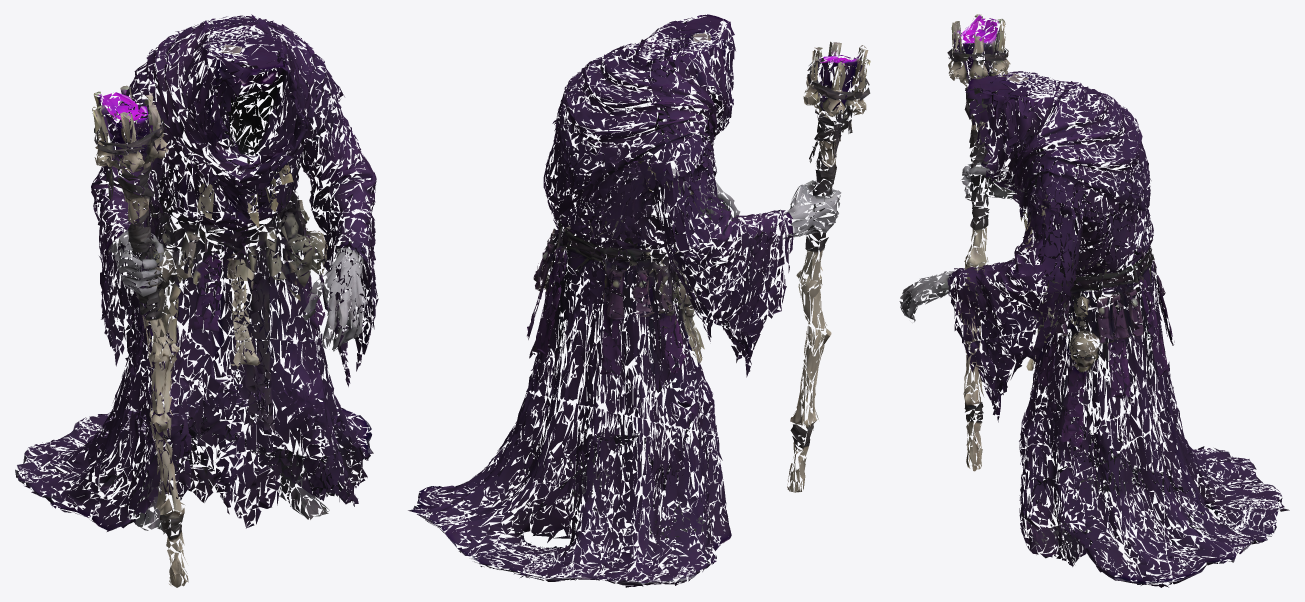
The model's file is hexer_stone.glb.
3 renders of one model, left to right at view 1: azimuth 30°, elevation 25°; view 2: azimuth 150°, elevation 25°; view 3: azimuth 270°, elevation 25°, orthographic. The views are drawn at different scales.
Parts seen in each view (by area): view 1: tripo_node_cf701bfa-e5db-4148-9c74-460903255d08; view 2: tripo_node_cf701bfa-e5db-4148-9c74-460903255d08; view 3: tripo_node_cf701bfa-e5db-4148-9c74-460903255d08.
Boxes of the visible parts, box(x1,y1,x2,y2) form: tripo_node_cf701bfa-e5db-4148-9c74-460903255d08: box(15, 14, 378, 587); tripo_node_cf701bfa-e5db-4148-9c74-460903255d08: box(408, 14, 870, 587); tripo_node_cf701bfa-e5db-4148-9c74-460903255d08: box(899, 14, 1289, 587).
Bounding box in the file's own units: 1.48 × 1.85 × 1.54.
1 material, 1 textured.
